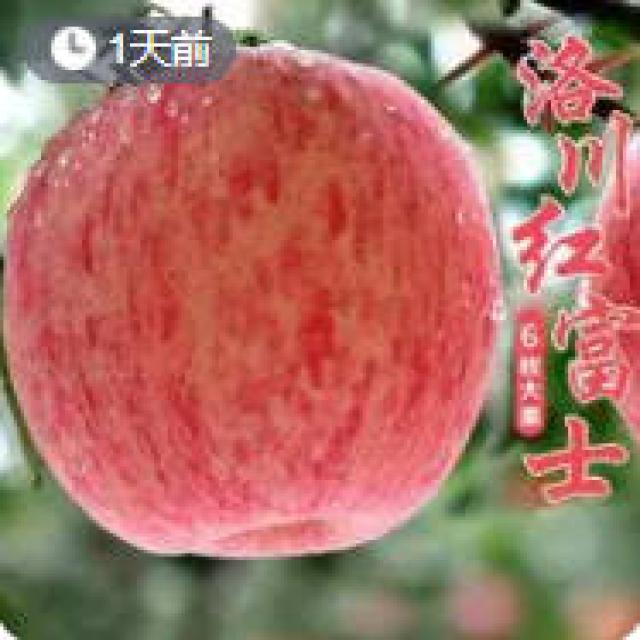100-_ripeness: (0, 17, 504, 565)
